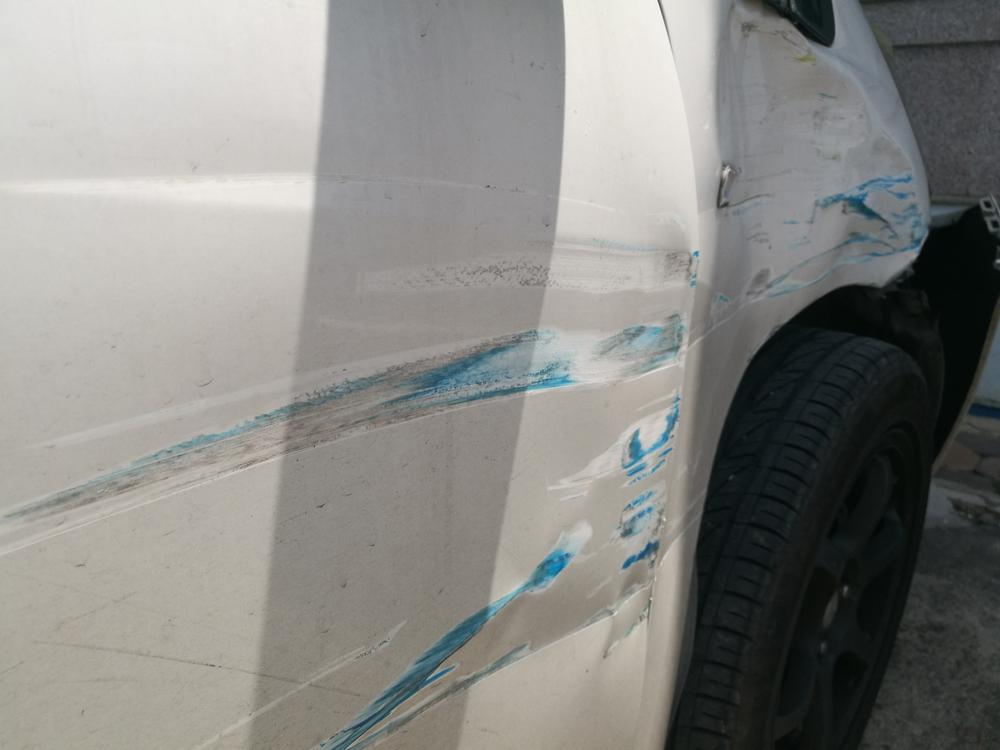dent: (694, 5, 920, 429)
scratch: (0, 201, 705, 750)
